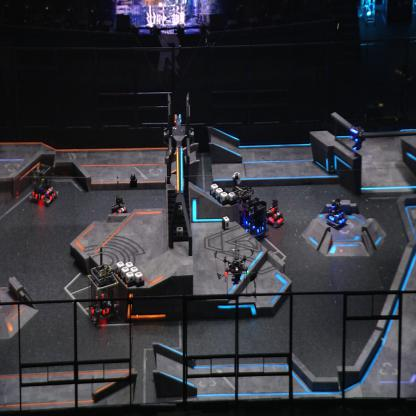car: (86, 266, 120, 325), (27, 164, 58, 205), (241, 196, 269, 238), (233, 185, 254, 228), (324, 197, 347, 229), (263, 197, 284, 228), (109, 195, 127, 221)
